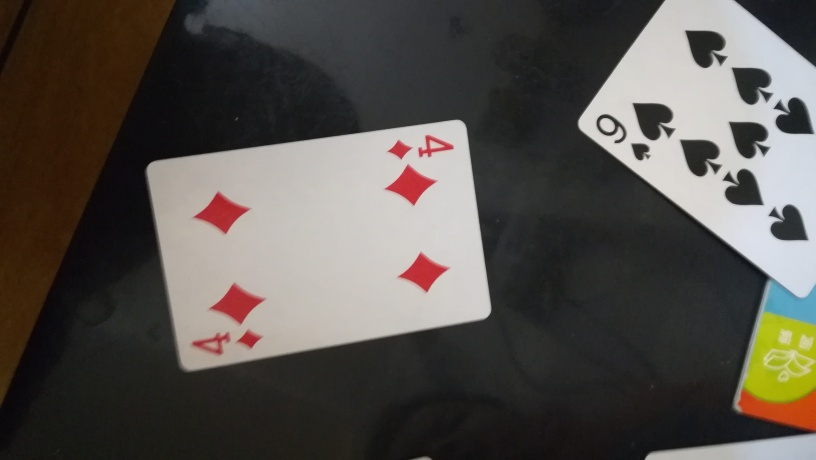fk 4: (147, 118, 503, 375)
ht 9: (560, 4, 815, 302)
